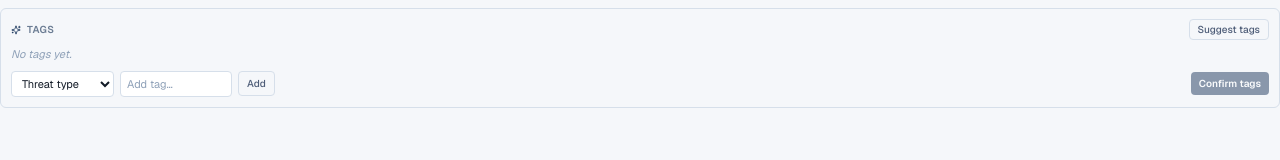
it: ScenarioTags › suggest renders AI-suggested chips; remove and add-manual work
The width and height of the screenshot is (1280, 160).
Step 1. Click the button "Suggest tags" → (1229, 30), box [1188, 19, 1269, 40]
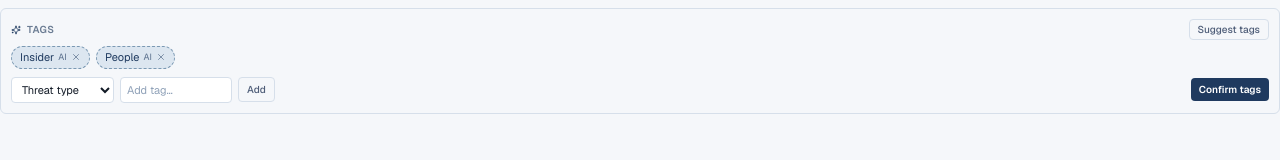
Expected: the text "Insider" is shown, [20, 50, 54, 64]
Expected: the text "People" is shown, [105, 50, 140, 64]
Expected: the number of elements named "AI-suggested" is 2, [58, 50, 67, 64]; [144, 50, 152, 64]
Remove one chip.
Step 2. Click the button named "Remove Insider" → (76, 57), box [71, 52, 81, 62]
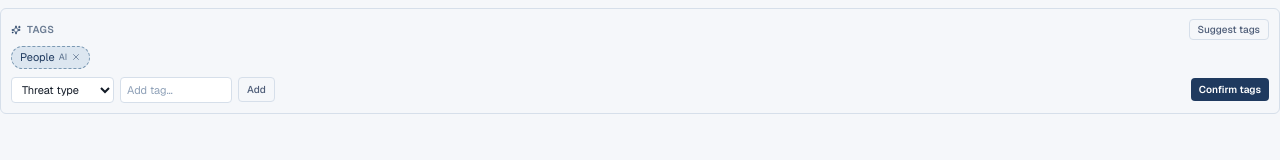
Expected: the text "Insider" is gone
Add a manual tag.
Step 3. Type "Terrorism" into the field named "Manual tag value" → (176, 90), box [120, 76, 232, 103]
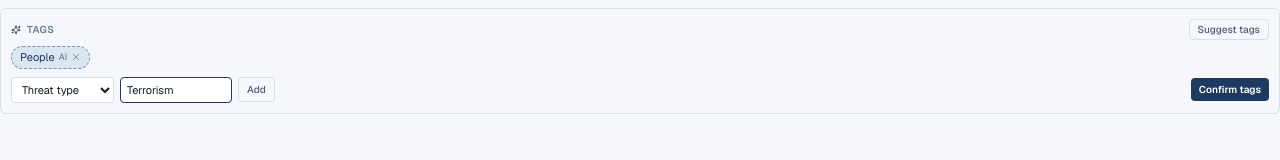
Step 4. Click the button "Add" → (256, 90), box [238, 77, 275, 102]
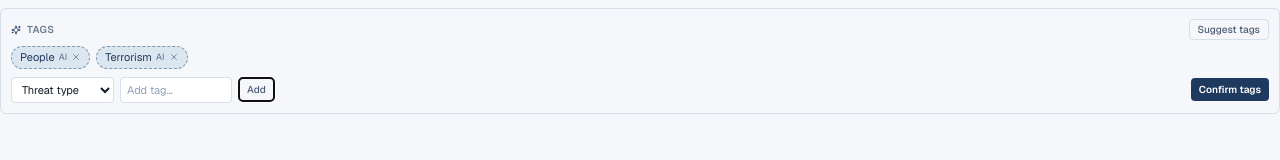
Expected: the text "Terrorism" is shown, [105, 50, 152, 64]
